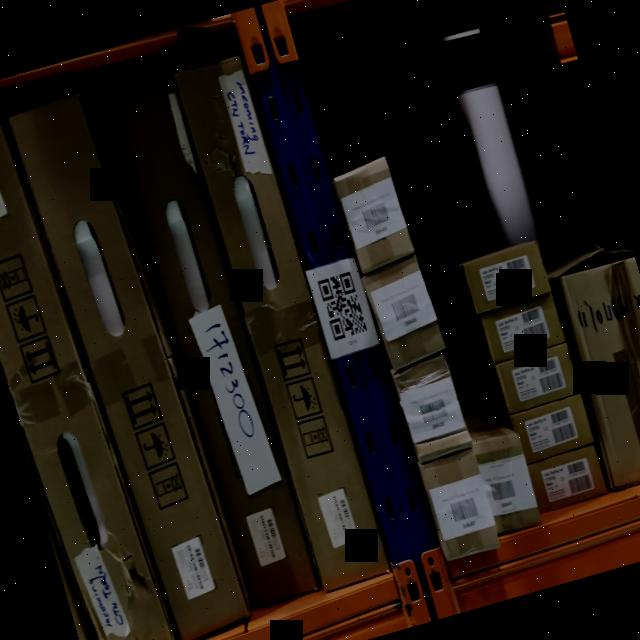box: (7, 93, 249, 640), (175, 55, 388, 592), (107, 80, 316, 606), (362, 259, 446, 369), (335, 158, 414, 274), (391, 355, 475, 461), (420, 450, 499, 559), (465, 242, 549, 309), (481, 292, 565, 359), (496, 346, 581, 410), (513, 399, 593, 458), (531, 451, 605, 504)
